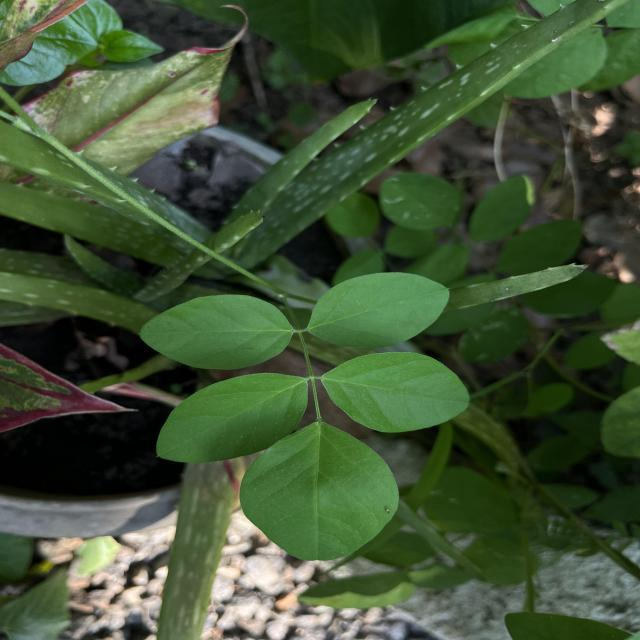Clitoria ternatea: (238, 420, 400, 562), (155, 372, 310, 464), (320, 350, 471, 434), (138, 293, 296, 372), (306, 270, 451, 350)
